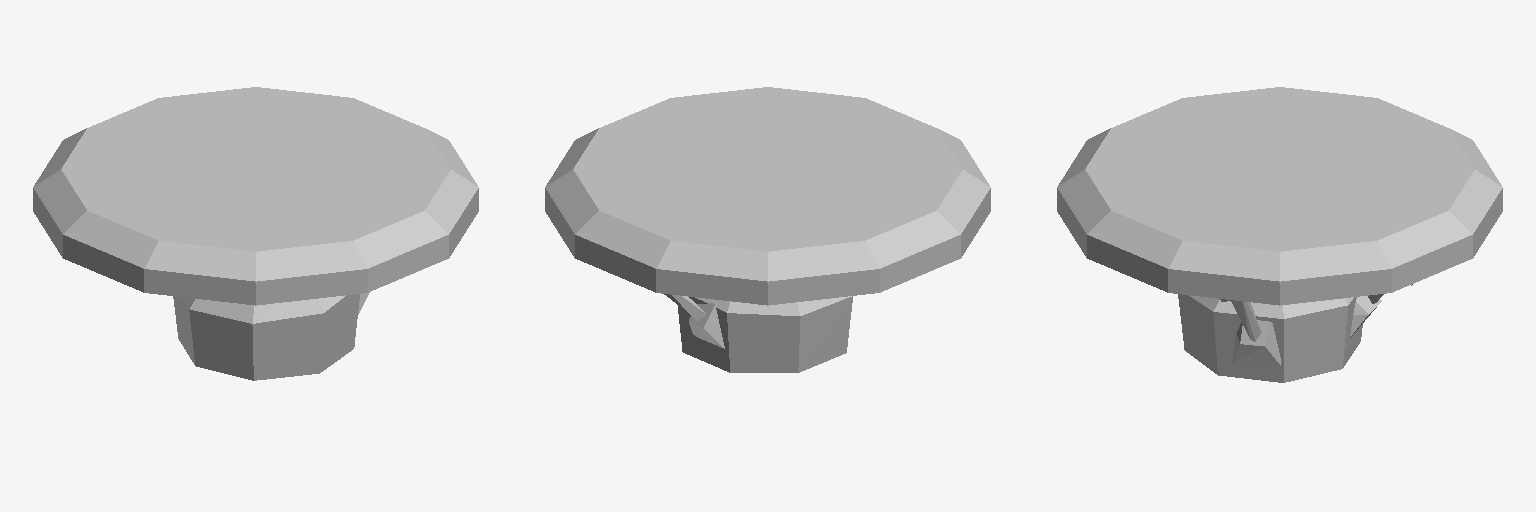
Rendered from gnometable03.obj.
The picture shows the model from 3 angles: view 1: azimuth 30°, elevation 25°; view 2: azimuth 150°, elevation 25°; view 3: azimuth 270°, elevation 25°; orthographic projection.
Parts seen in each view (by area): view 1: GnomeTable03; view 2: GnomeTable03; view 3: GnomeTable03.
Boxes of the visible parts, box(x1,y1,x2,y2) form: GnomeTable03: box(33, 87, 478, 380); GnomeTable03: box(545, 87, 990, 372); GnomeTable03: box(1057, 87, 1502, 382).
Size of the model in its own units: 2.83 by 1.21 by 2.83.